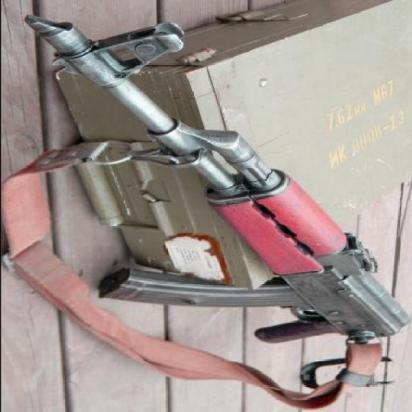Gun: (40, 18, 403, 340)
